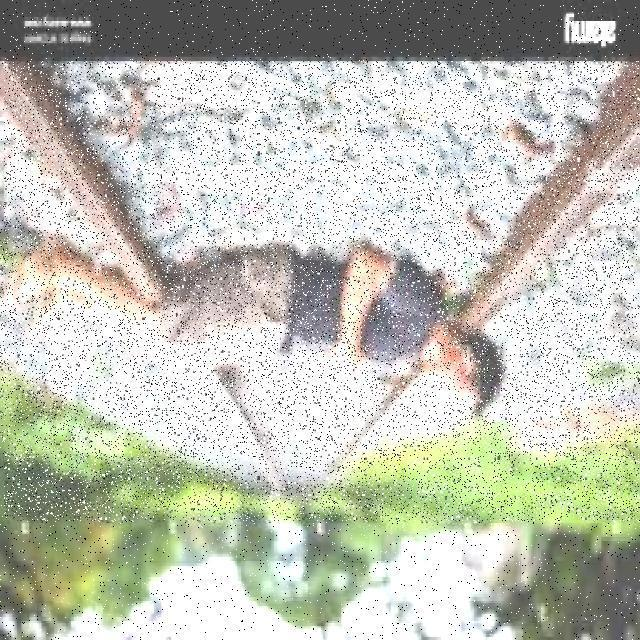danger: (0, 237, 498, 443)
rail: (4, 61, 639, 521)
